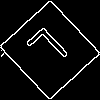L: (25, 25, 78, 78)
